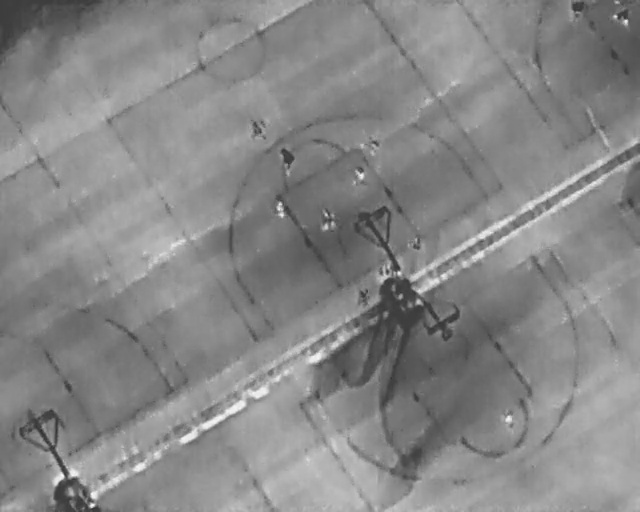Person: (278, 146, 297, 179), (361, 136, 382, 160), (317, 207, 337, 232), (610, 5, 630, 29), (250, 118, 269, 142), (272, 196, 287, 220), (351, 165, 367, 187), (503, 408, 514, 430), (571, 0, 586, 15)
